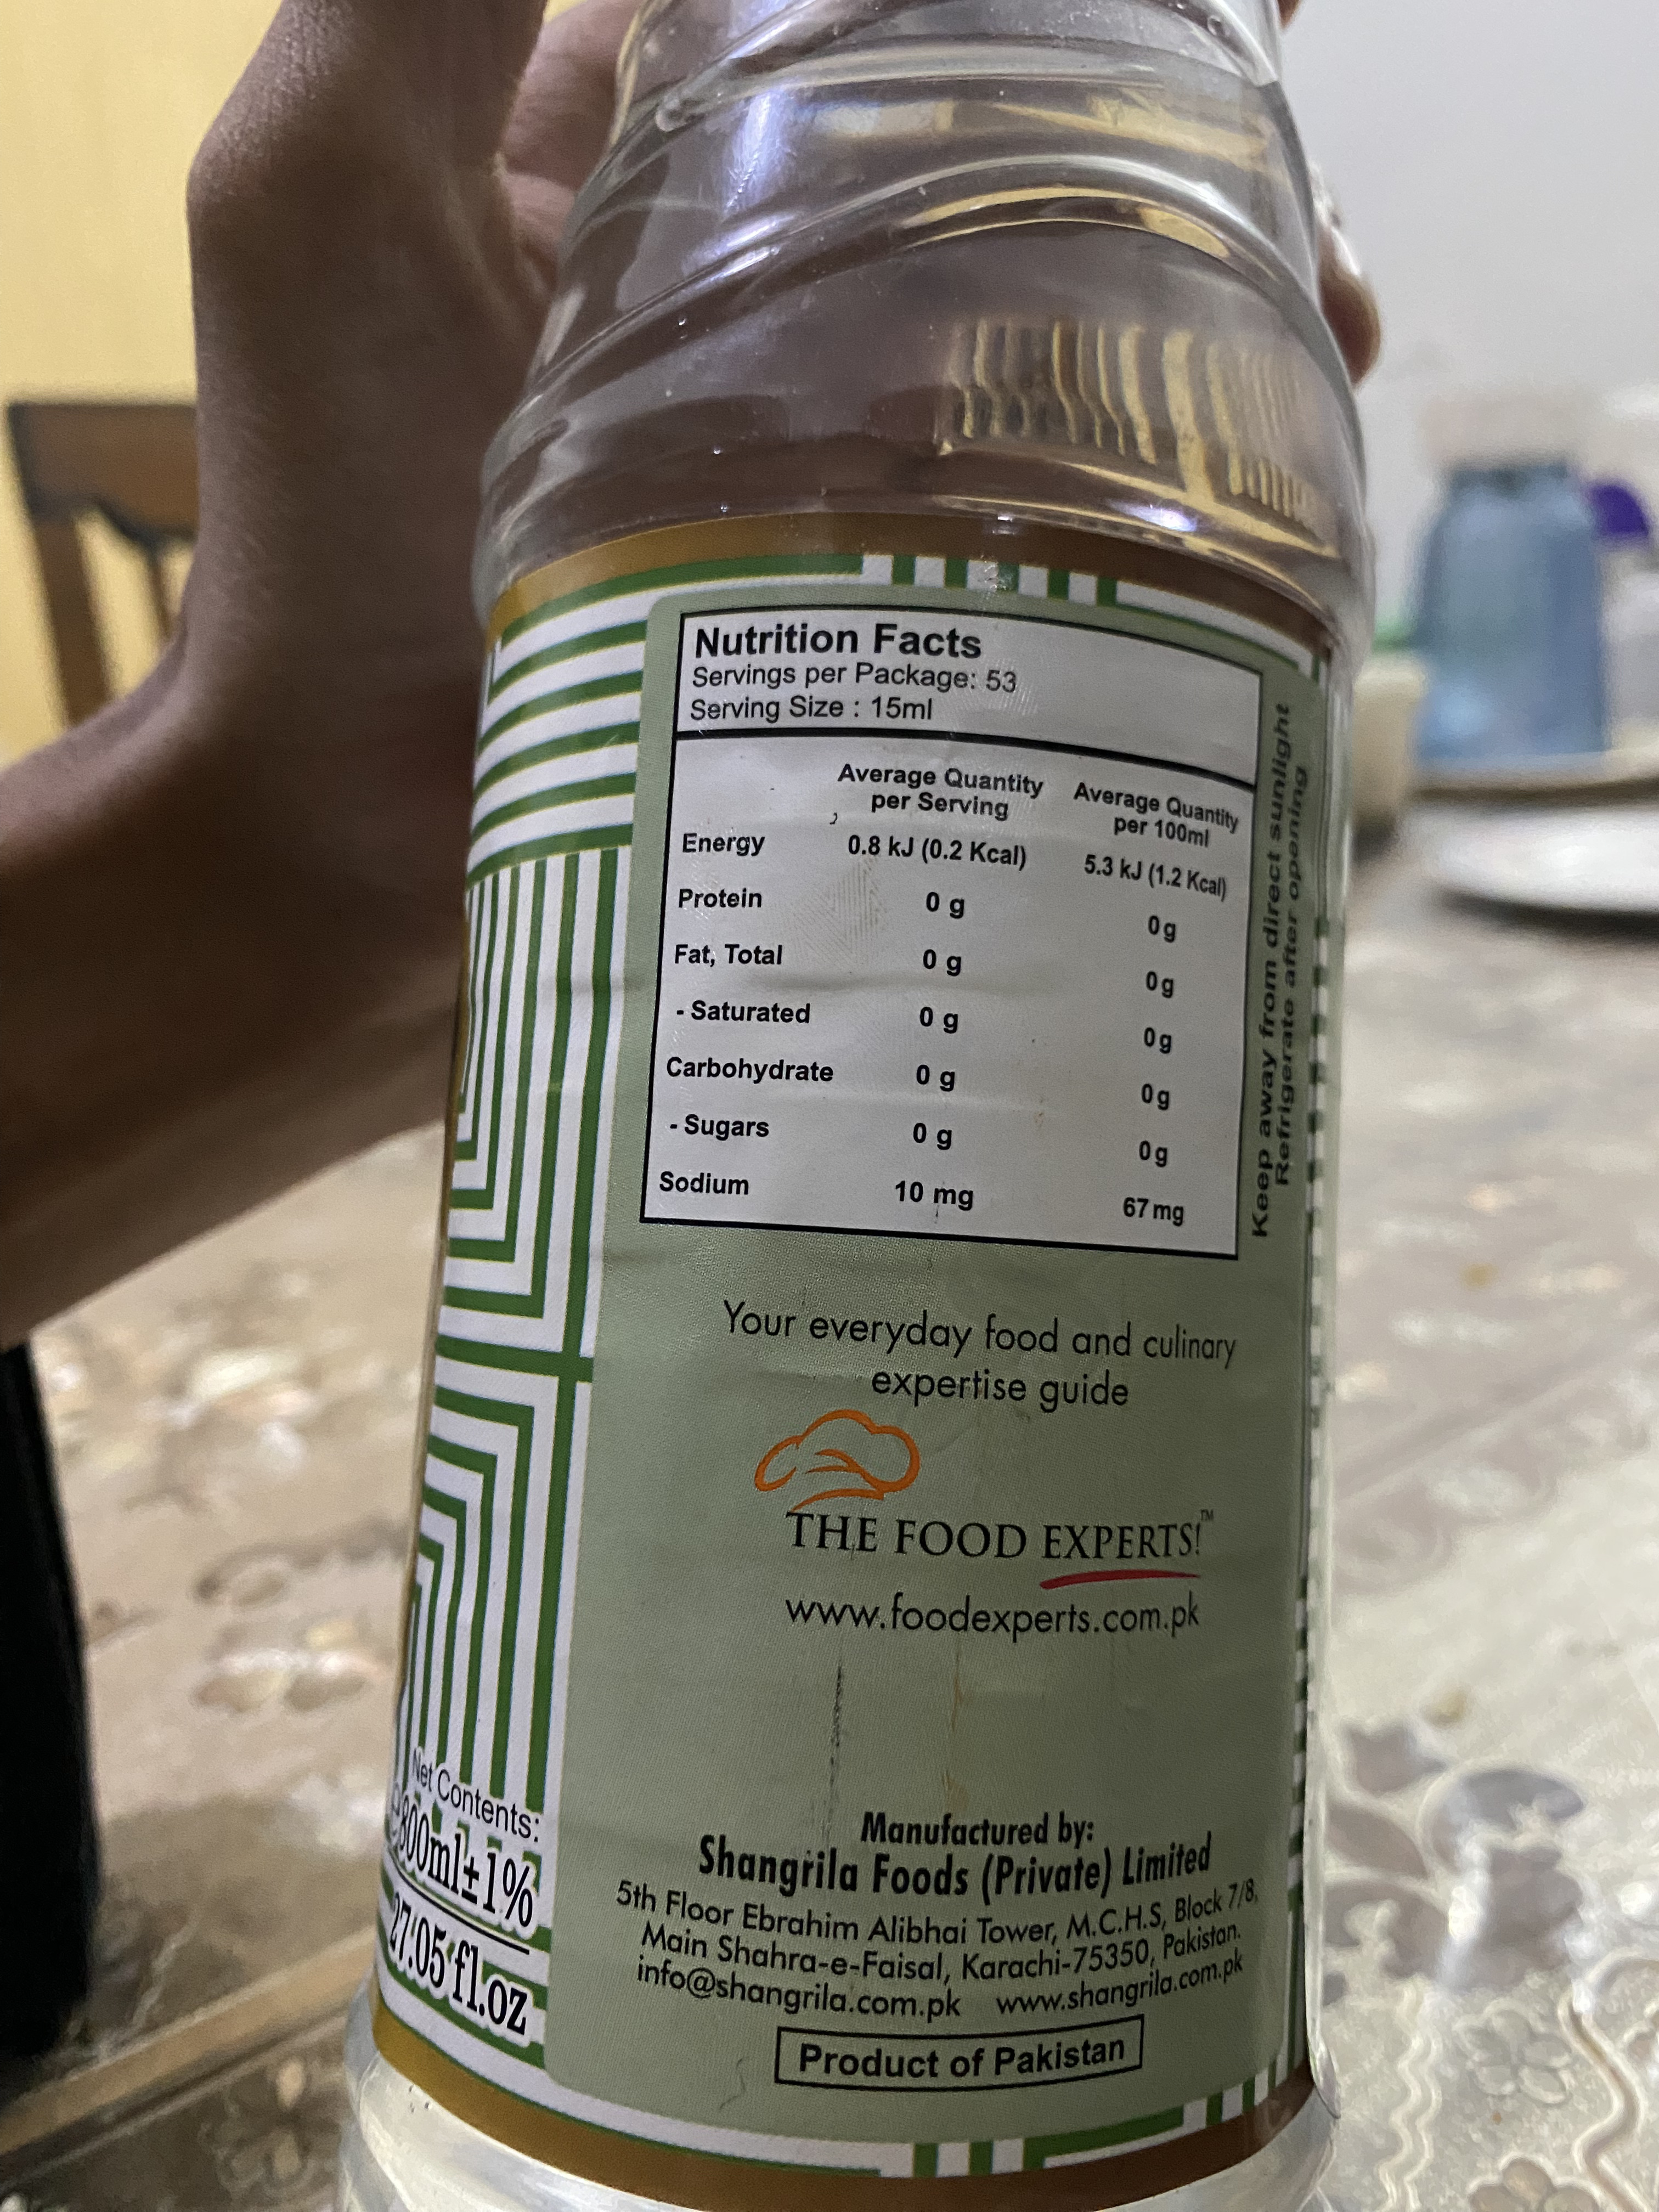table: (638, 608, 1276, 1266)
